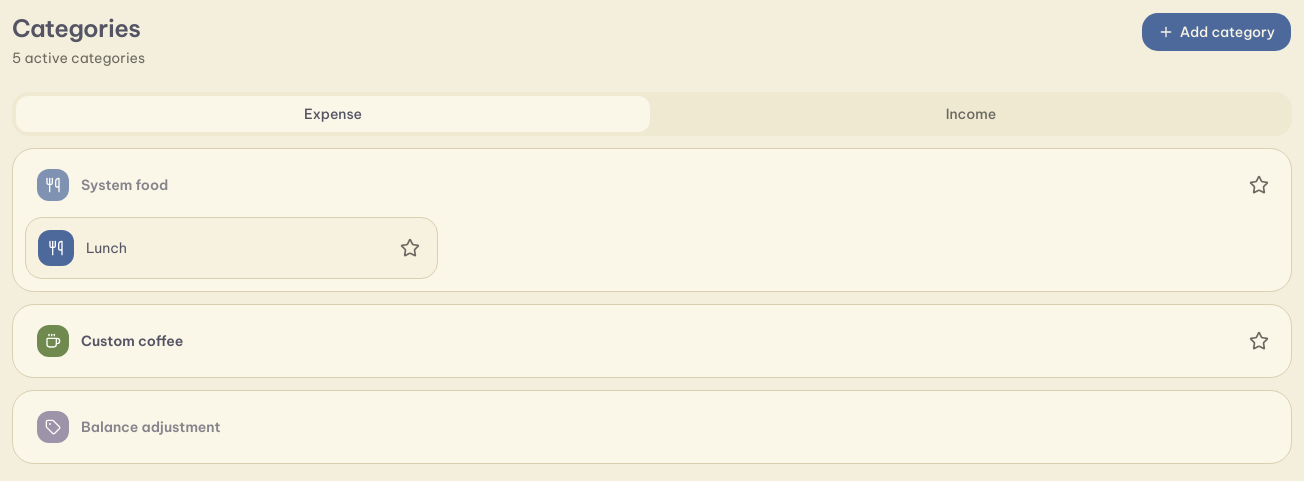
it: CategoriesPage › filters the list by type with the segmented control
Expected: the button "System food" is shown, [29,161,1235,209]
Expected: the button "Job income" is not shown
Click the button "Income". click: (971, 114)
box: [654,96,1288,132]
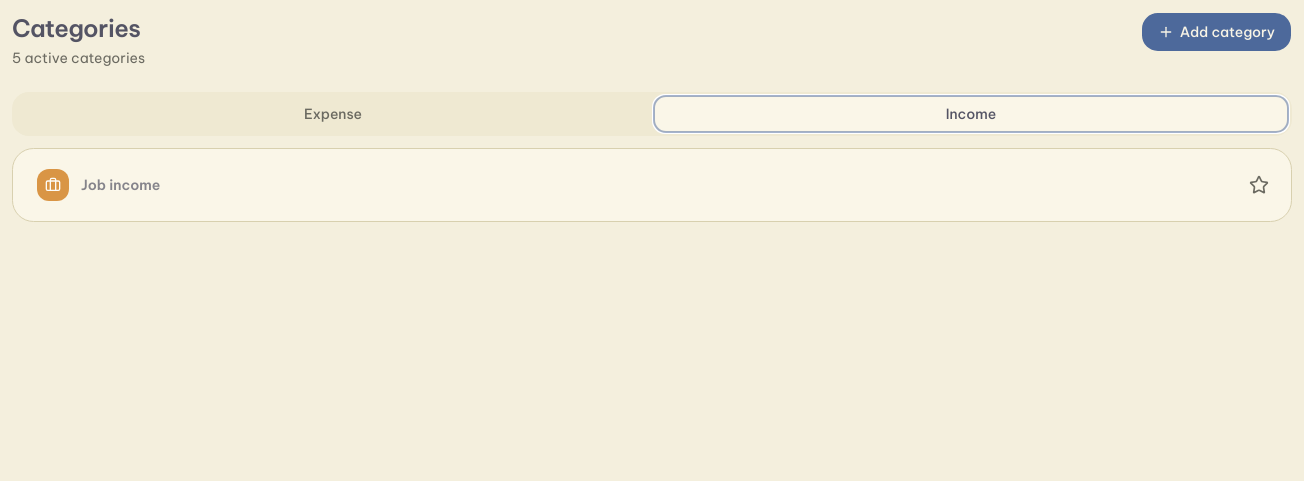
Now the button "Job income" is shown, box [29,161,1235,209]
Now the button "System food" is gone
